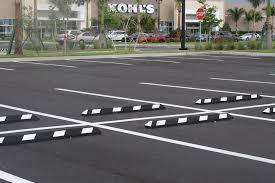empty: (123, 112, 275, 154), (116, 73, 275, 113), (1, 89, 177, 124), (84, 57, 189, 70), (28, 59, 133, 71)
